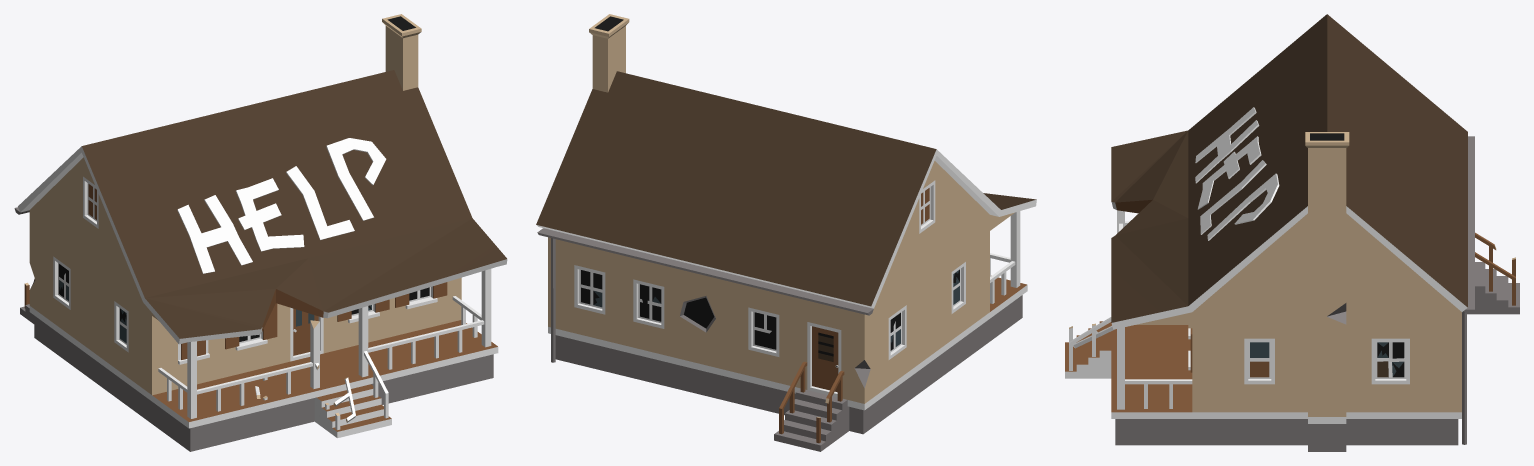
File: apocalypse_building-house-family-small-apocalypse-a.fbx
3 renders of one model, left to right at view 1: azimuth 30°, elevation 25°; view 2: azimuth 150°, elevation 25°; view 3: azimuth 270°, elevation 25°, orthographic. The views are drawn at different scales.
Parts seen in each view (by area): view 1: apocalypse_building_house_family_small_apocalypse_a; view 2: apocalypse_building_house_family_small_apocalypse_a; view 3: apocalypse_building_house_family_small_apocalypse_a.
Part boxes in pixels (x1,y1,x2,y2): apocalypse_building_house_family_small_apocalypse_a: [14, 14, 507, 451]; apocalypse_building_house_family_small_apocalypse_a: [536, 14, 1036, 451]; apocalypse_building_house_family_small_apocalypse_a: [1065, 14, 1519, 451].
Size of the model in its own units: 184 by 151 by 200.
